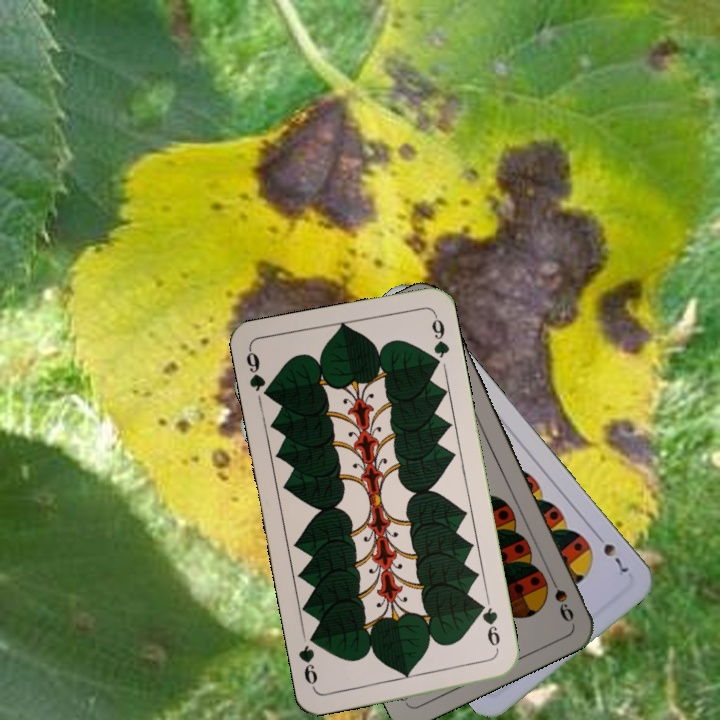G9: (242, 346, 275, 402), (474, 598, 503, 655)
S7: (590, 528, 632, 576)
S9: (544, 569, 577, 625)
